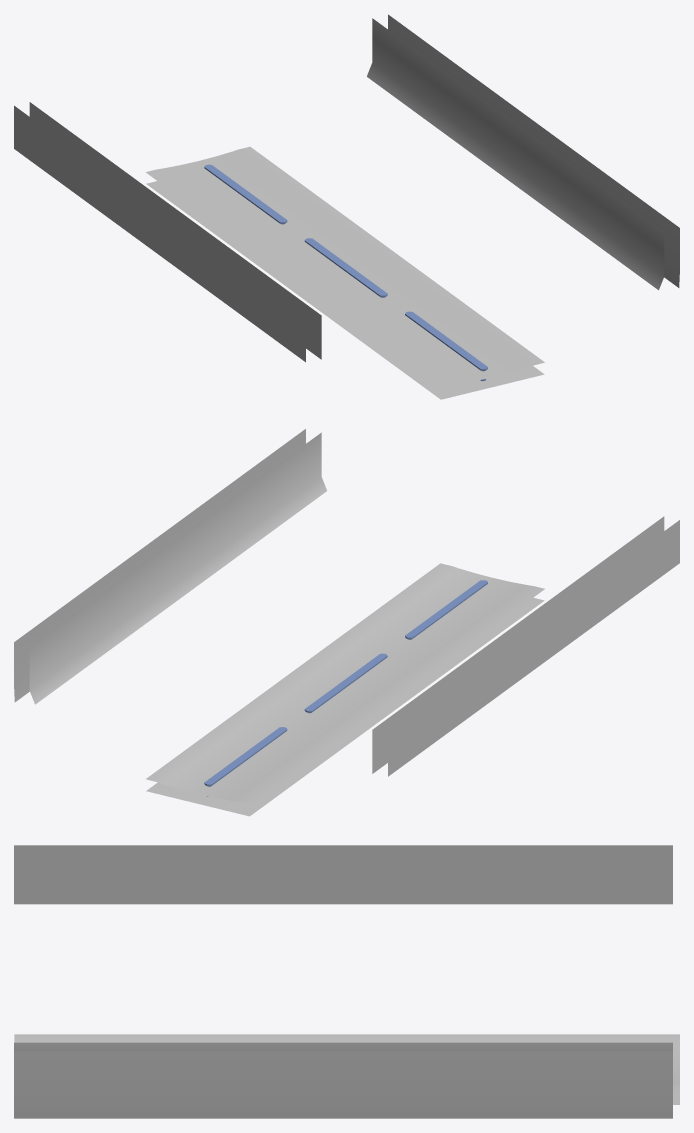
Rendered from staticmesh_Collisiontrack_segment_2.fbx.
The picture shows the model from 3 angles, top to bottom: view 1: azimuth 30°, elevation 25°; view 2: azimuth 150°, elevation 25°; view 3: azimuth 270°, elevation 25°; orthographic projection. The views are drawn at different scales.
Parts seen in each view (by area): view 1: geo_glase, geo_lights; view 2: geo_glase, geo_lights; view 3: geo_glase.
Boxes of the visible parts, left/top/right/bottom form: geo_glase: left=14, top=14, right=679, bottom=399; geo_lights: left=204, top=164, right=487, bottom=381; geo_glase: left=14, top=429, right=679, bottom=816; geo_lights: left=204, top=580, right=487, bottom=796; geo_glase: left=14, top=845, right=679, bottom=1118.
Size of what is drawn, in the model's own units: 2535 by 753 by 3467.
